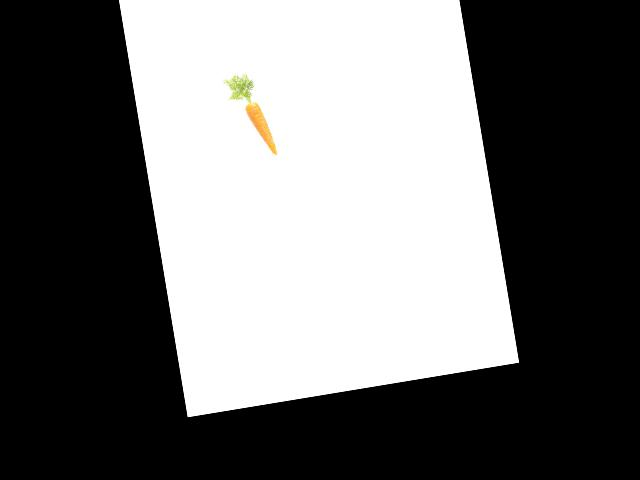carrot: (242, 97, 279, 161)
